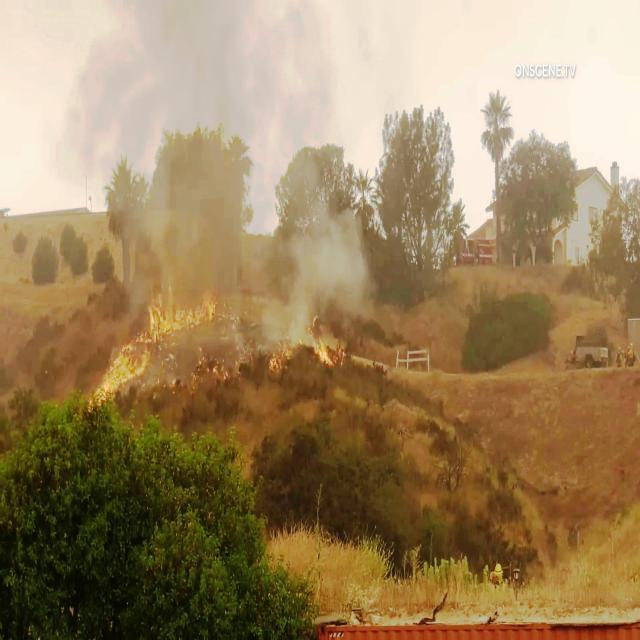Fire: (140, 267, 228, 338), (84, 335, 155, 413), (266, 338, 356, 381), (181, 354, 233, 396)
Smoke: (140, 6, 288, 268), (284, 181, 356, 333)
